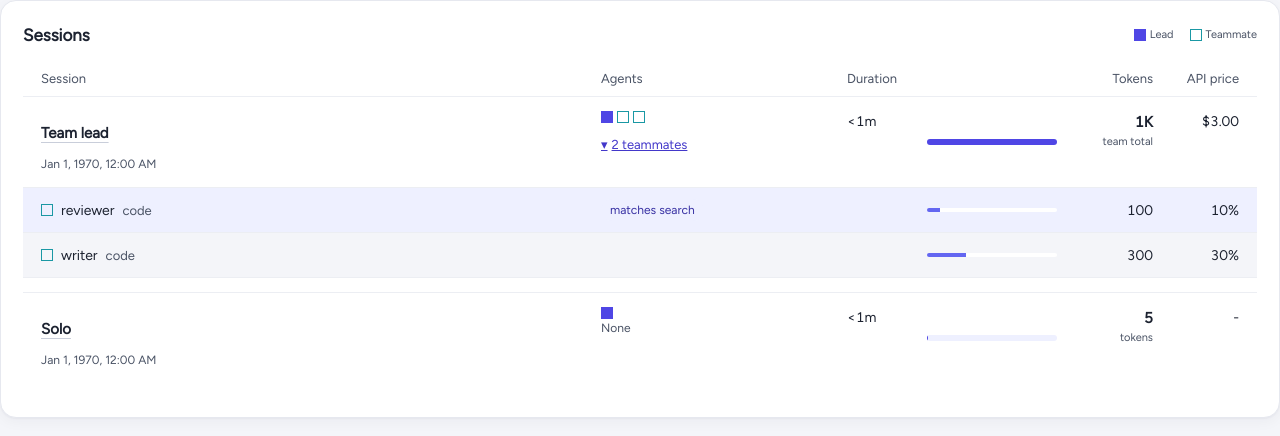
it: teammate rows of a session › say which teammate matched while they are closed
Click the button "▾ 2 teammates" at (644, 145), box [601, 123, 687, 167]
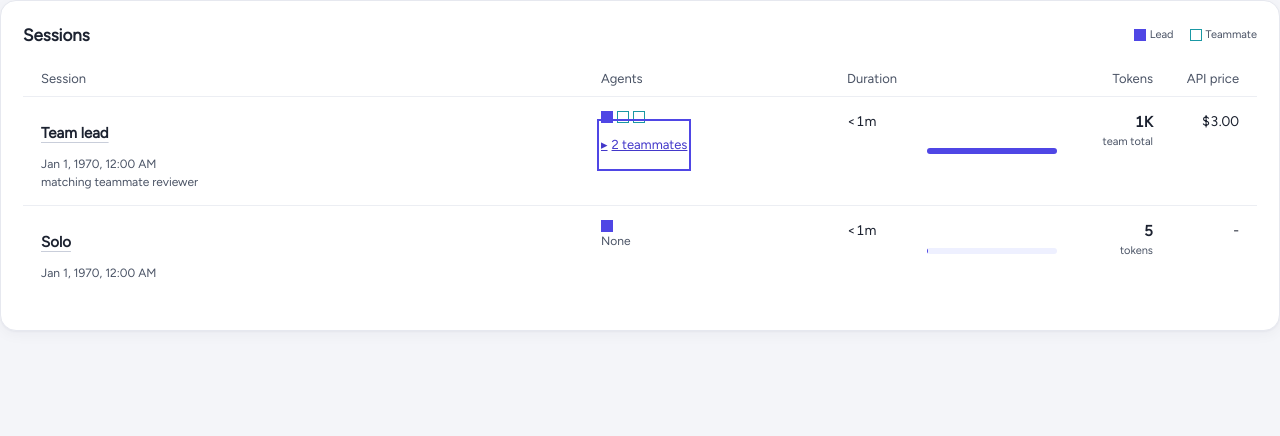
Expected: the text "matching teammate reviewer" is shown, [41, 175, 198, 189]
